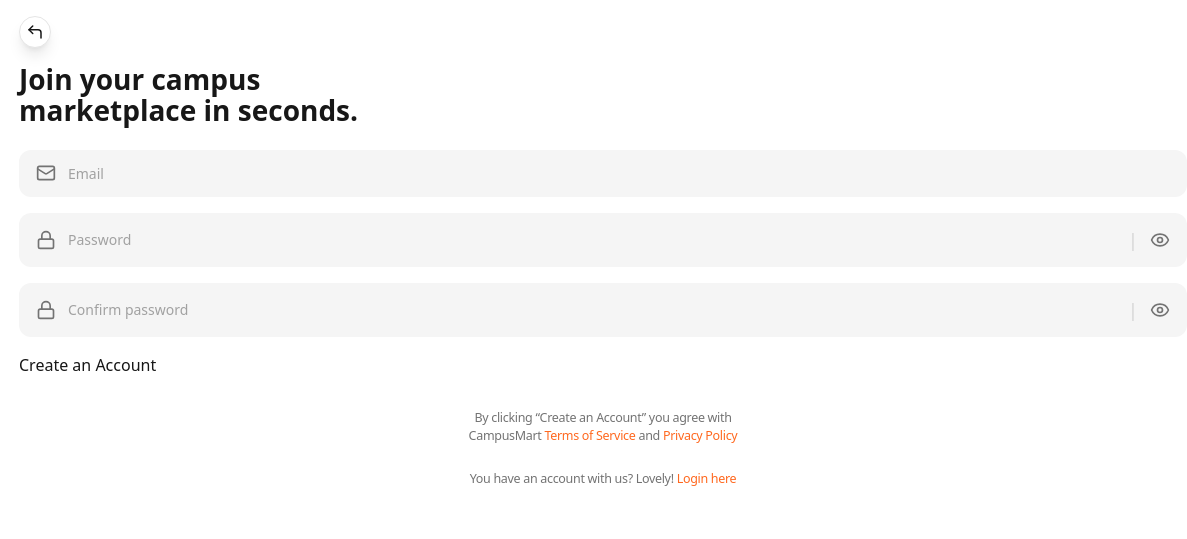
Scenario: SignUpForm › shows the API error message under the form
This screenshot has width=1187, height=539.
Type "ada@unilag.edu.ng" into the field with placeholder "Email" at point(619, 173), box [68,163,1170,184]
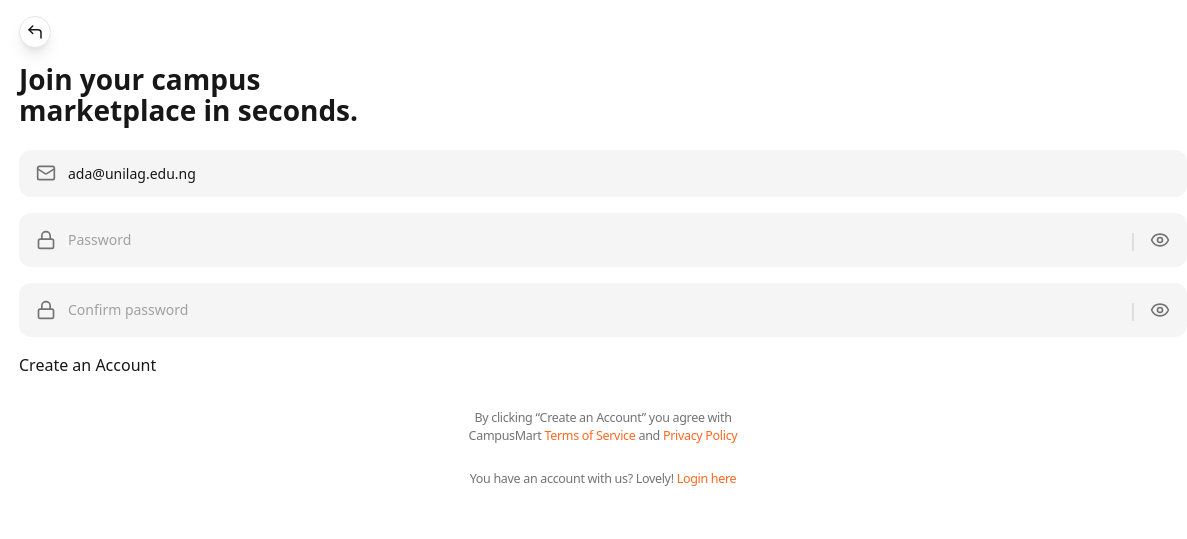
Type "Campus2026" into the password field with placeholder "Password" at point(596, 240), box [68,229,1124,250]
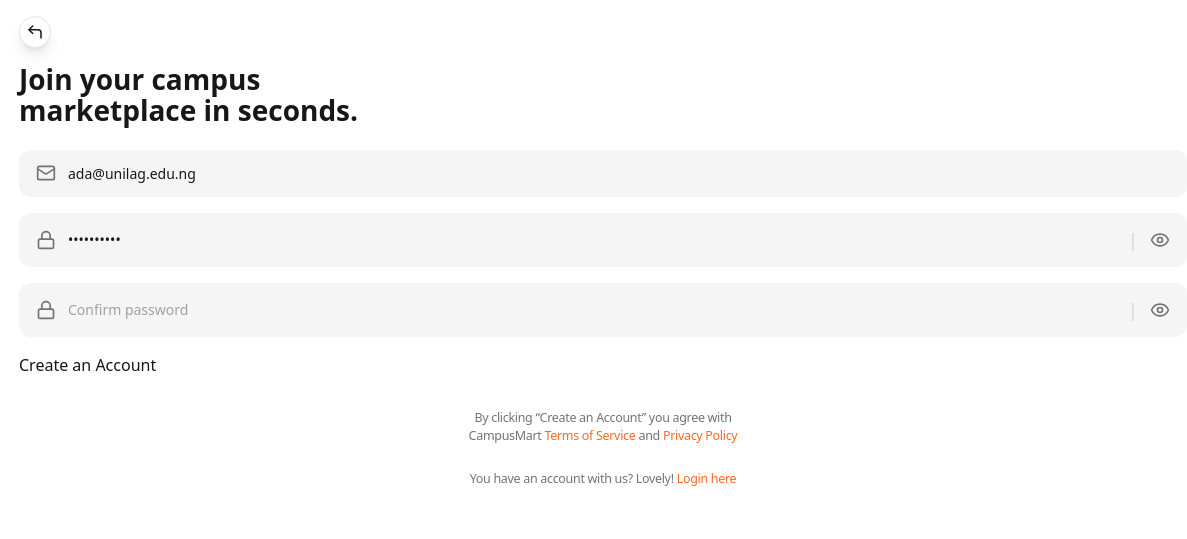
Type "Campus2026" into the password field with placeholder "Confirm password" at point(596, 310), box [68,299,1124,320]
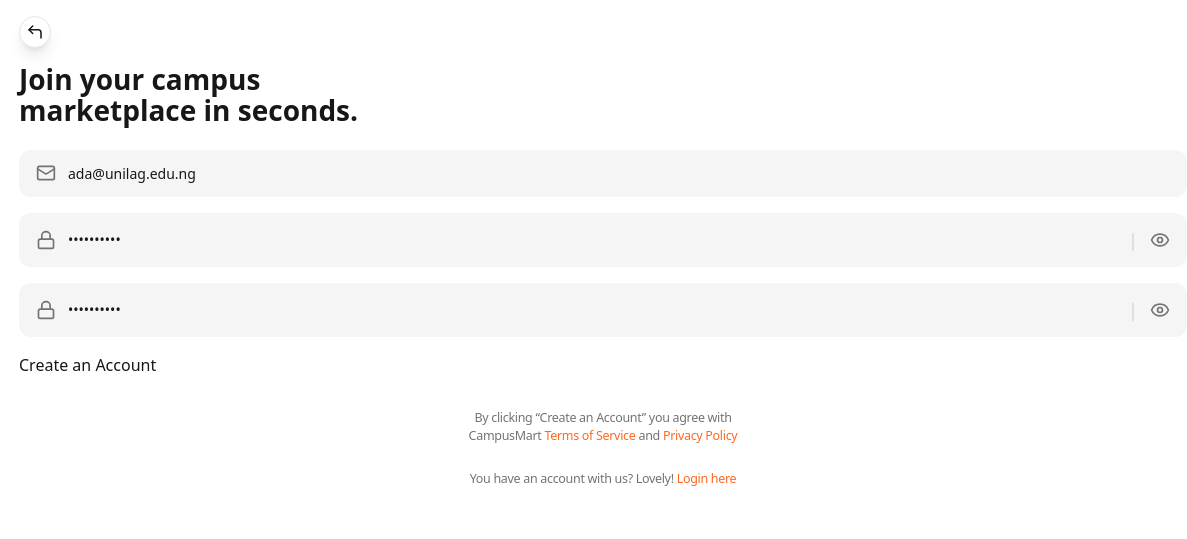
Click the button "Create an Account" at point(88, 365), box [19,353,156,377]
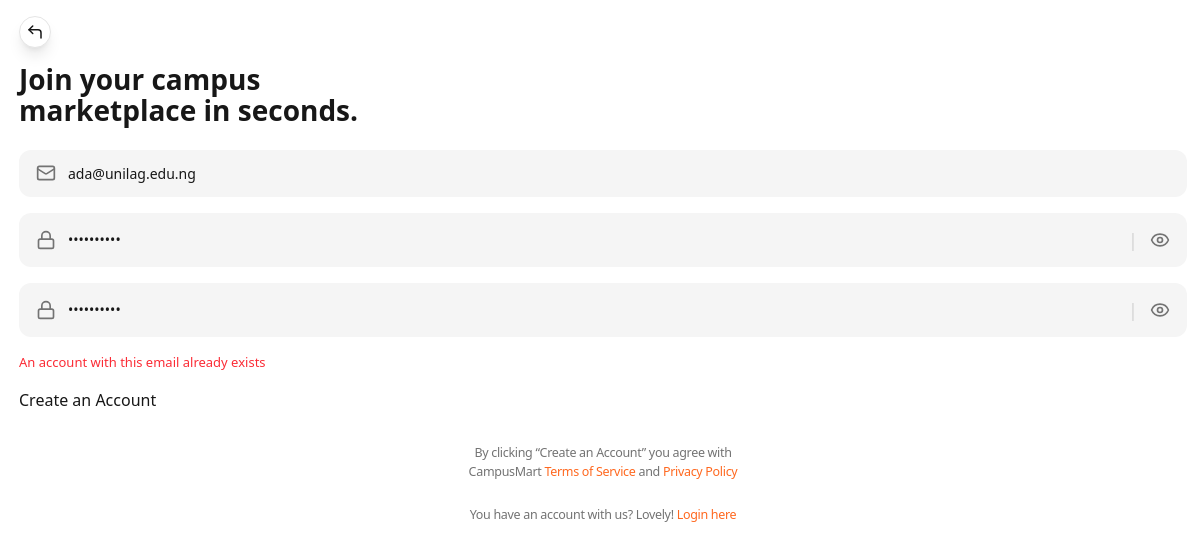
Check: the message reads "An account with this email already exists", box [19,353,266,371]
